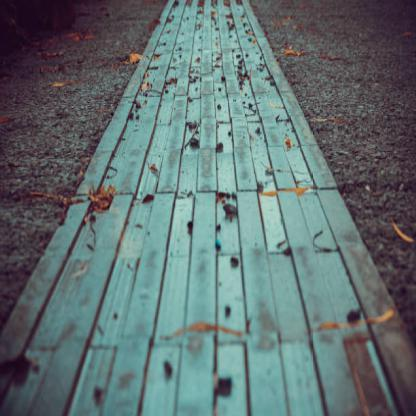podotacti: (3, 7, 412, 411)
